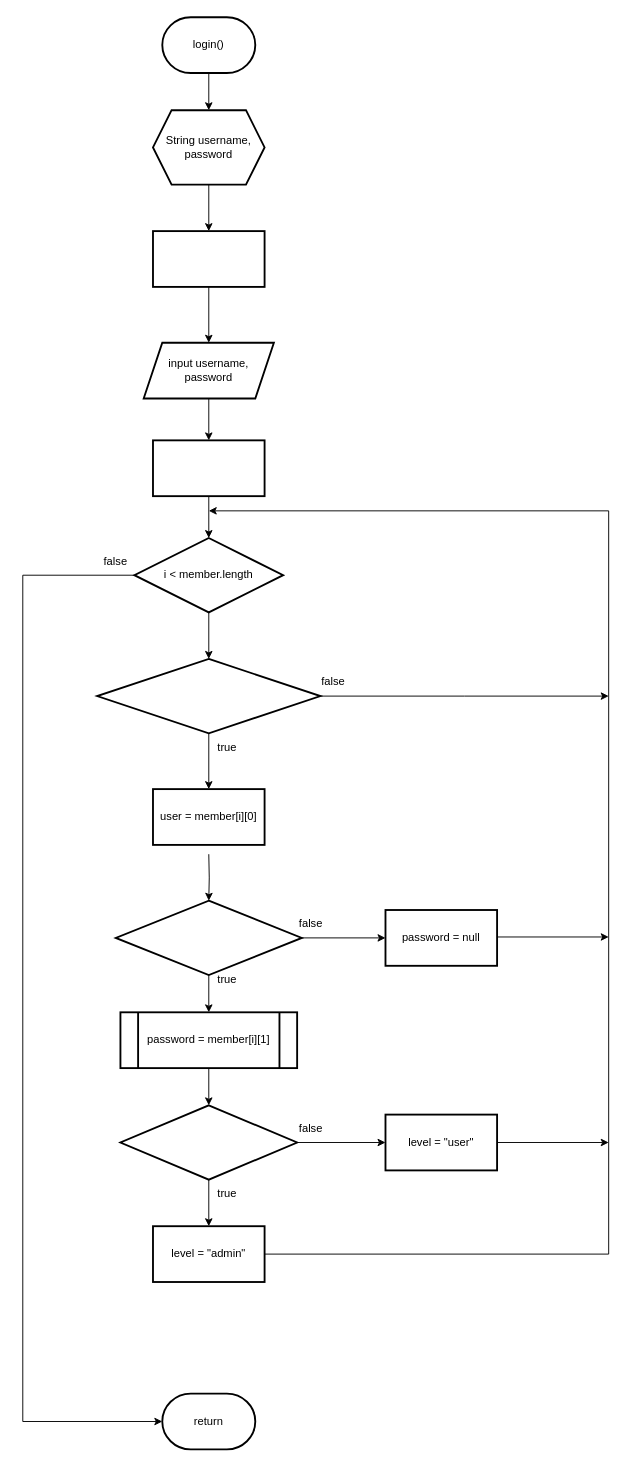
Image size: 632x1466. Some labels were removed from this diagram. The box of each missing label's shape, as (x1, y1, x2, y2) in pixels:
int i = 0: (152, 439, 265, 497)
member[i][0].equals(username): (96, 658, 321, 734)
member[i][1].equals(pass): (114, 899, 302, 976)
member[i][2] == "admin": (119, 1104, 298, 1180)
user = null password = null: (152, 230, 265, 287)
